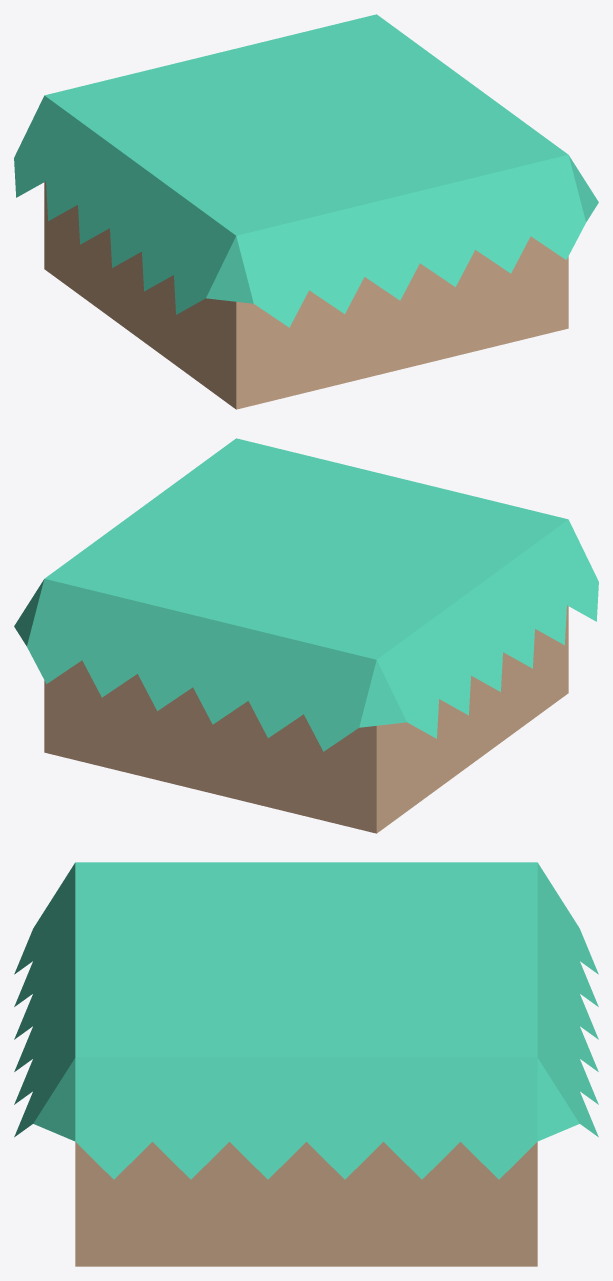
The model's file is blockHalf.glb.
The picture shows the model from 3 angles, top to bottom: view 1: azimuth 30°, elevation 25°; view 2: azimuth 150°, elevation 25°; view 3: azimuth 270°, elevation 25°; orthographic projection. The views are drawn at different scales.
Visible parts, largest first — view 1: blockHalf(Clone); view 2: blockHalf(Clone); view 3: blockHalf(Clone).
Part boxes in pixels (<box>): blockHalf(Clone): <box>14,14,598,409</box>; blockHalf(Clone): <box>14,438,598,833</box>; blockHalf(Clone): <box>14,862,598,1266</box>.
Size of the model in its own units: 1.27 by 0.5 by 1.27.
